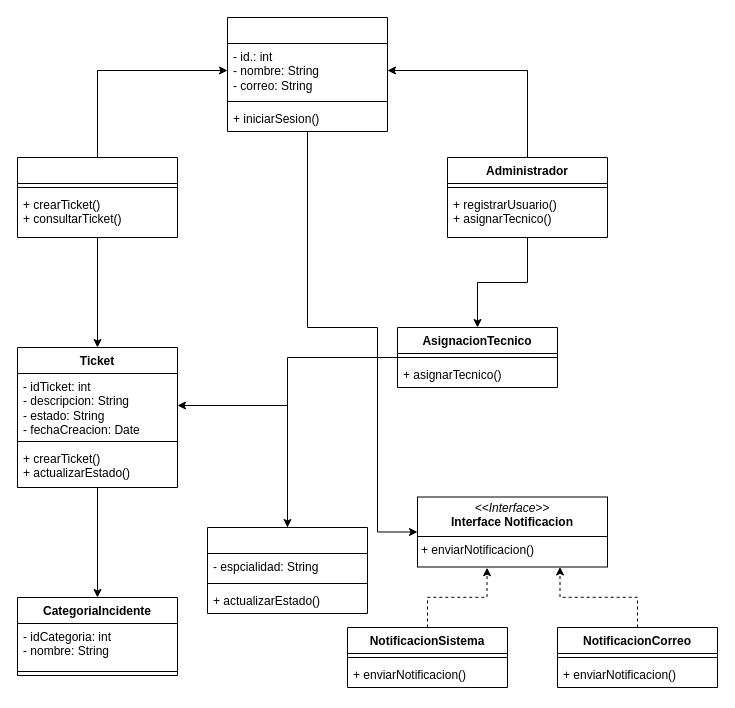
The diagram is 735 pixels wide and 708 high, and some of its shapes have lost their labels. The box of each missing label's shape, as (x1, y1, x2, y2) in pixels:
TecnicoSoporte: (206, 526, 368, 614)
Usuario: (226, 16, 388, 132)
UsuarioFinal: (16, 156, 178, 238)
